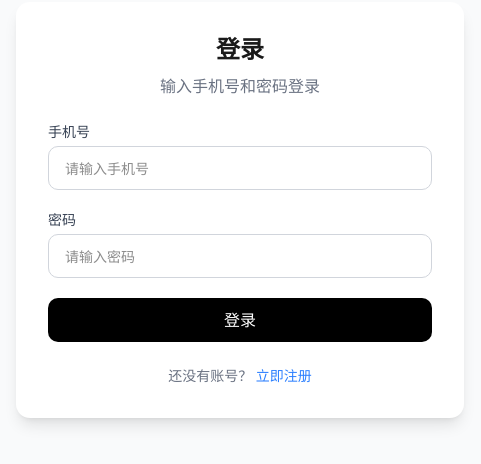
Test case: LoginPage › 账号被禁用时显示提示
The image size is (481, 464).
Type "13800138000" into the field with placeholder "请输入手机号" at (240, 168), box [48,146,432,190]
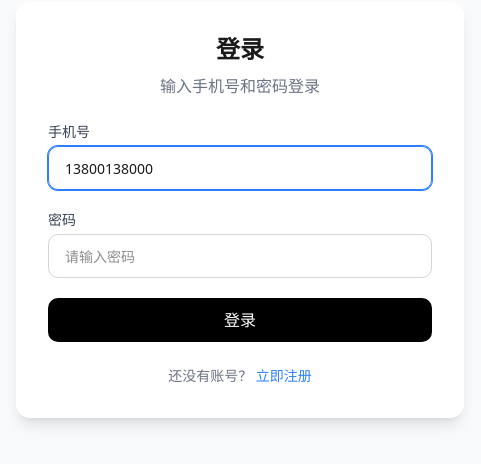
Type "123456" into the password field with placeholder "请输入密码" at (240, 256), box [48,234,432,278]
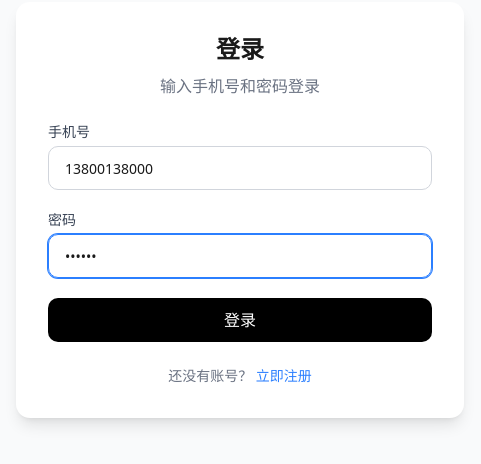
Click the button "登录" at (240, 320), box [48,298,432,342]
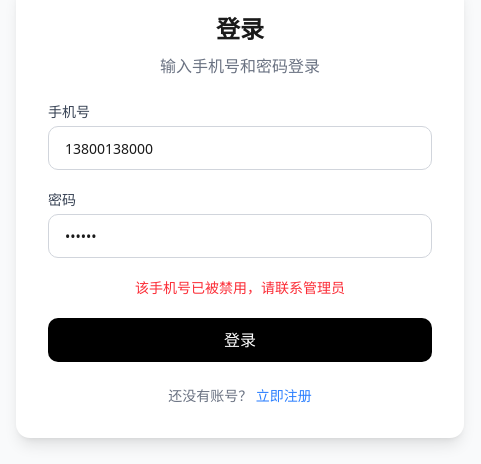
Result: the text "该手机号已被禁用，请联系管理员" is shown at [135,278,345,297]
